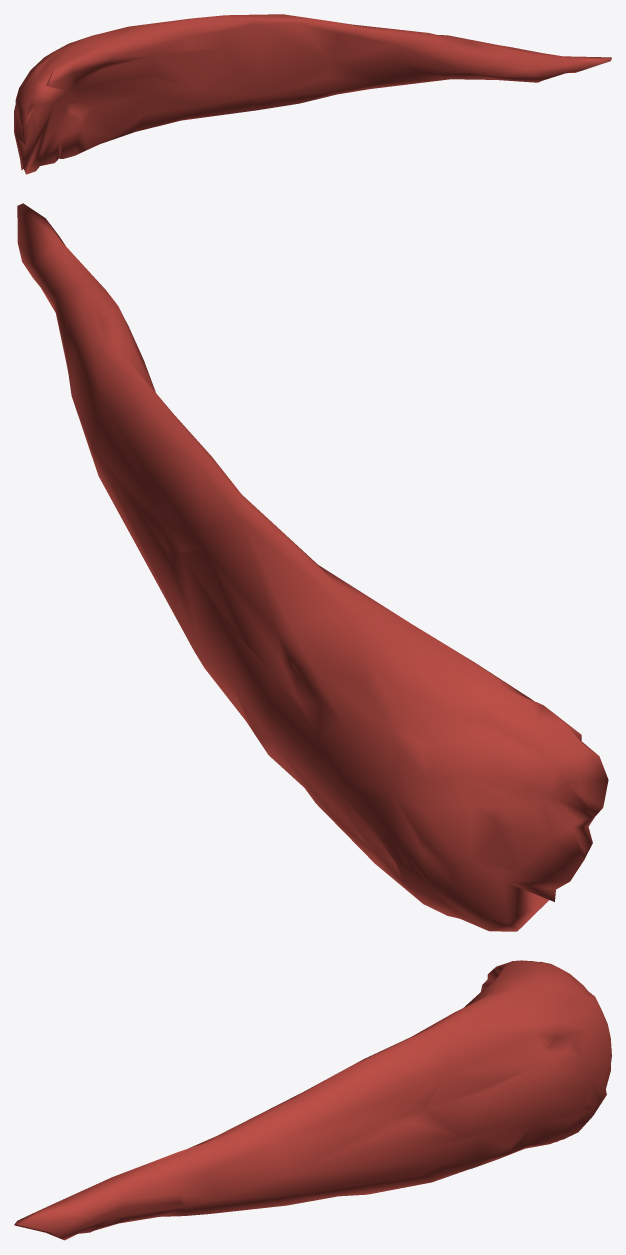
File: musculos-inferior-gemellus-muscle-l.glb
3 views of the same model, one above another, from view 1: azimuth 30°, elevation 25°; view 2: azimuth 150°, elevation 25°; view 3: azimuth 270°, elevation 25° (orthographic). The views are drawn at different scales.
Visible parts, largest first — view 1: Inferior gemellus muscle.l; view 2: Inferior gemellus muscle.l; view 3: Inferior gemellus muscle.l.
Boxes of the visible parts, box(x1,y1,x2,y2) form: Inferior gemellus muscle.l: box(14, 14, 611, 174); Inferior gemellus muscle.l: box(17, 203, 608, 931); Inferior gemellus muscle.l: box(14, 960, 611, 1240).
Bounding box in the file's own units: 0.0728 × 0.0232 × 0.0543.
